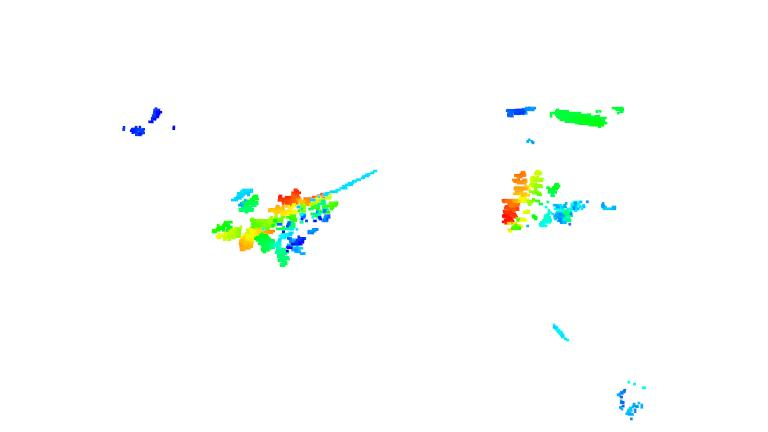chickpea: (492, 166, 577, 238), (271, 189, 341, 266), (211, 187, 279, 257)
